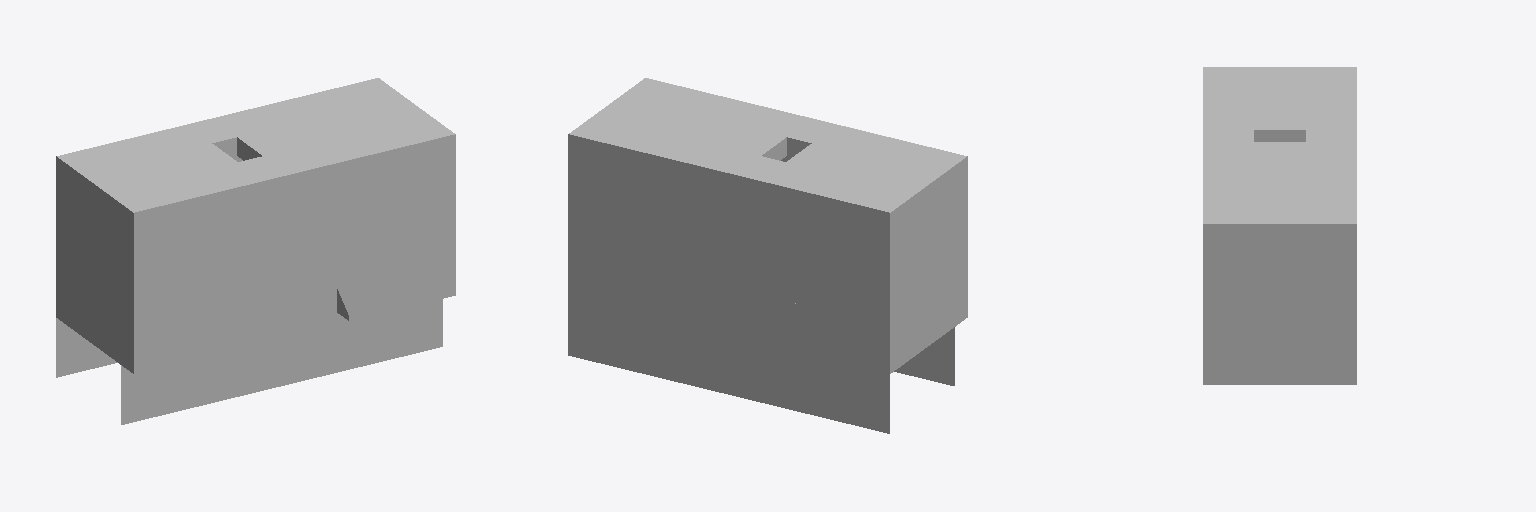
The model's file is BUKHUUKITCHEN_.obj.
3 views of the same model, side by side, from view 1: azimuth 30°, elevation 25°; view 2: azimuth 150°, elevation 25°; view 3: azimuth 270°, elevation 25° (orthographic).
Visible parts, largest first — view 1: Layer_wall, Plane002, Plane001; view 2: Layer_wall, Plane001, Plane002, Layer_furniture, Box001; view 3: Layer_wall.
Part boxes in pixels (x1,y1,x2,y2): Layer_wall: (56, 78, 455, 373); Plane002: (121, 192, 442, 424); Plane001: (56, 318, 117, 377); Layer_wall: (568, 78, 967, 373); Plane001: (568, 134, 889, 433); Plane002: (781, 156, 954, 385); Layer_furniture: (726, 264, 755, 324); Box001: (676, 181, 817, 302); Layer_wall: (1203, 67, 1356, 384).
Size of the model in its own units: 723 by 475 by 300.